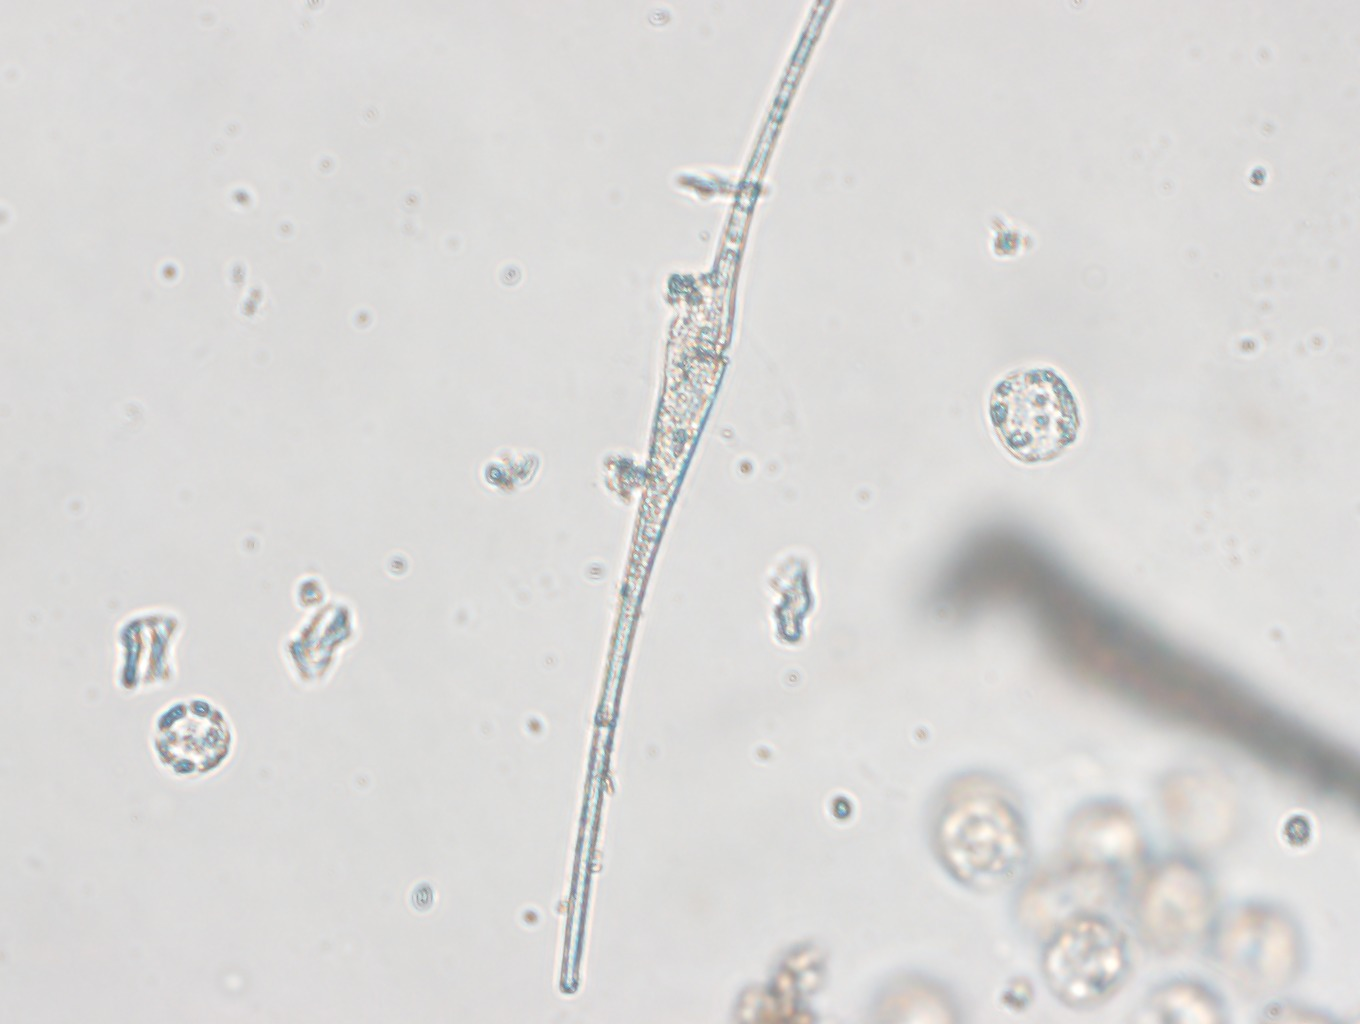ceratium fusus: (514, 2, 824, 999)
